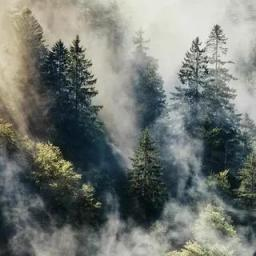Low smoke: (2, 153, 238, 256), (35, 1, 147, 148)
